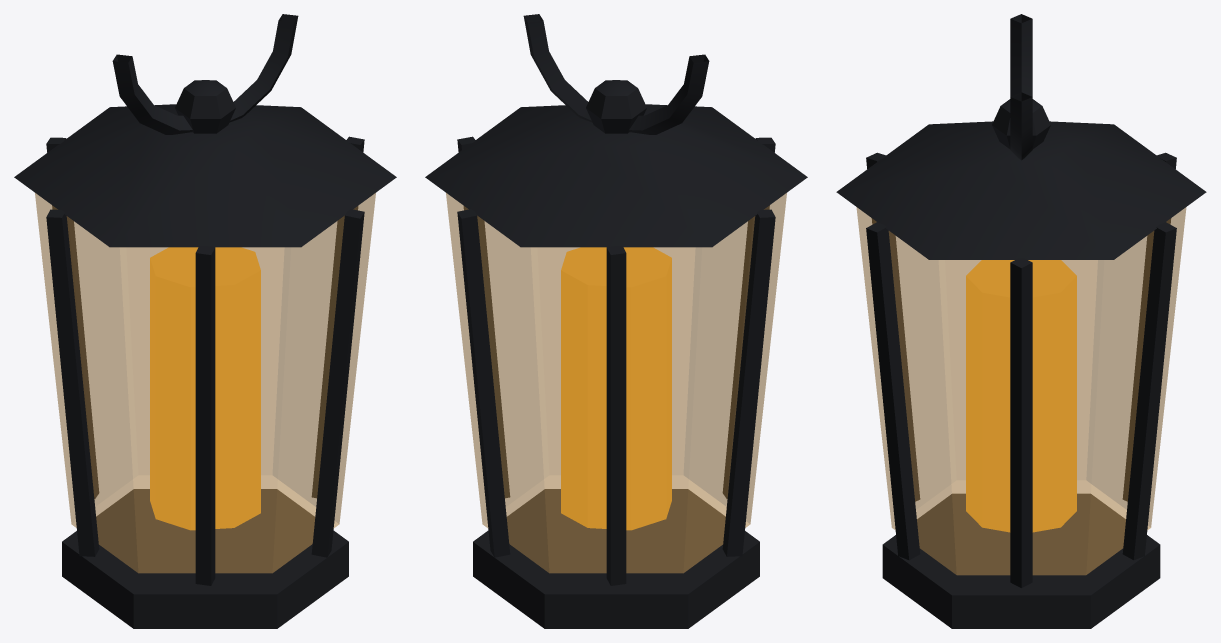
Rendered from lamp_decorative_lantern.glb.
The picture shows the model from 3 angles, left to right: view 1: azimuth 30°, elevation 25°; view 2: azimuth 150°, elevation 25°; view 3: azimuth 270°, elevation 25°; orthographic projection. The views are drawn at different scales.
Visible parts, largest first — view 1: lamp_decorative_lantern; view 2: lamp_decorative_lantern; view 3: lamp_decorative_lantern.
Boxes of the visible parts, left/top/right/bottom form: lamp_decorative_lantern: left=14, top=14, right=396, bottom=628; lamp_decorative_lantern: left=425, top=14, right=807, bottom=628; lamp_decorative_lantern: left=836, top=14, right=1206, bottom=628.
Bounding box in the file's own units: 0.1919 × 0.31 × 0.2.
